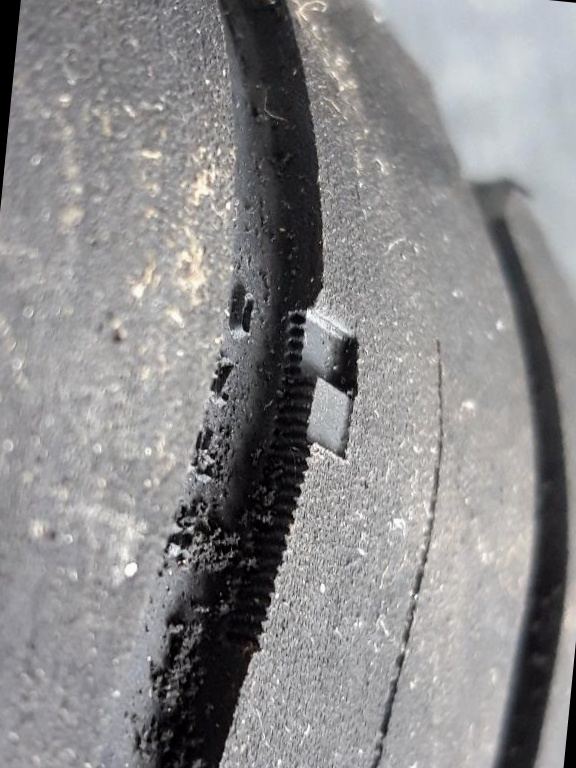temoin:25: (238, 277, 391, 493)
